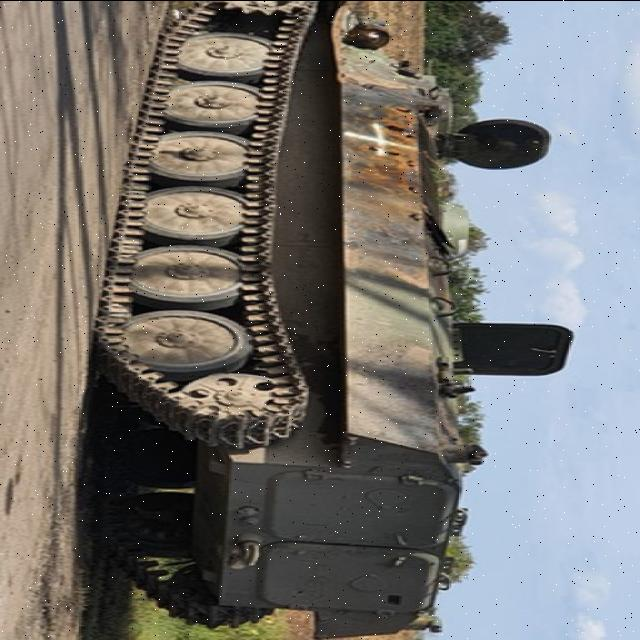APC-IFV: (94, 0, 574, 636)
